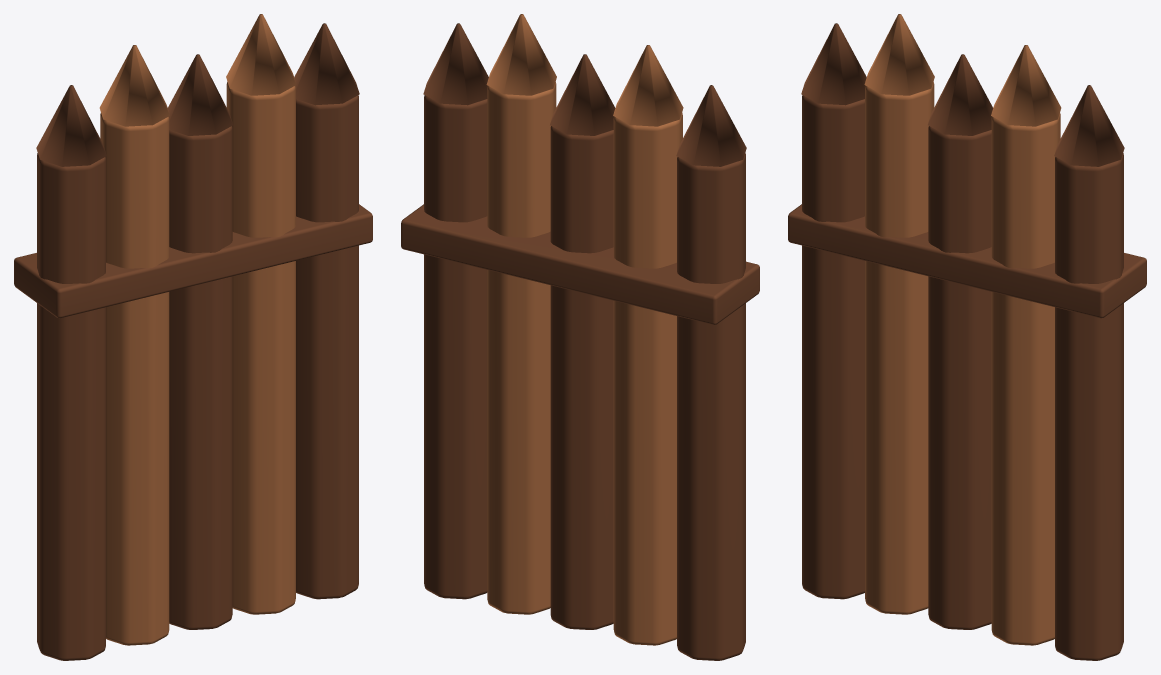
File: gulch_palisade.glb
3 renders of one model, left to right at view 1: azimuth 30°, elevation 25°; view 2: azimuth 150°, elevation 25°; view 3: azimuth 330°, elevation 25°, orthographic.
Visible parts, largest first — view 1: Palisade; view 2: Palisade; view 3: Palisade.
Part boxes in pixels (bbox=[...]): Palisade: bbox=[14, 14, 372, 660]; Palisade: bbox=[401, 14, 759, 660]; Palisade: bbox=[788, 14, 1146, 660].
Bounding box in the file's own units: 2 × 3.55 × 0.5.
